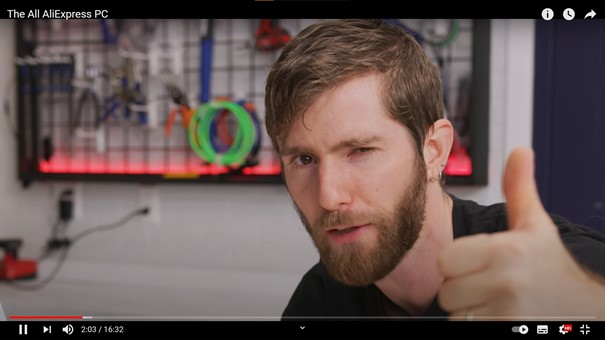without_mask: (277, 127, 444, 279)
